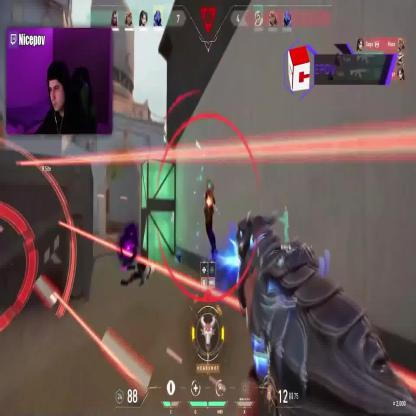enemy: (204, 180, 220, 262)
enemy_head: (206, 180, 214, 196)
